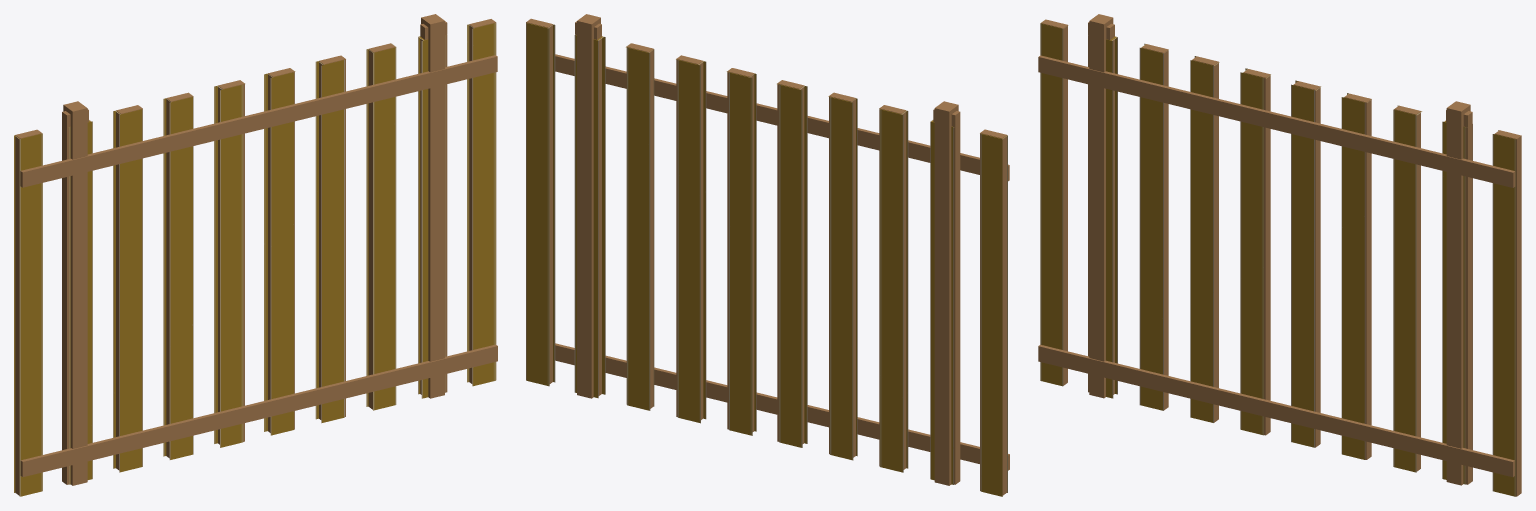
The model's file is E_Alpha Fence.fbx.
3 views of the same model, side by side, from view 1: azimuth 30°, elevation 25°; view 2: azimuth 150°, elevation 25°; view 3: azimuth 330°, elevation 25° (orthographic).
Visible parts, largest first — view 1: lp_fence_barrier, hp_e_fence_barrier; view 2: lp_fence_barrier, hp_e_fence_barrier; view 3: lp_fence_barrier, hp_e_fence_barrier.
Part boxes in pixels (left/top/right/bottom): lp_fence_barrier: left=14, top=14, right=495, bottom=496; hp_e_fence_barrier: left=15, top=19, right=497, bottom=495; lp_fence_barrier: left=526, top=14, right=1007, bottom=496; hp_e_fence_barrier: left=526, top=18, right=1009, bottom=495; lp_fence_barrier: left=1040, top=14, right=1515, bottom=496; hp_e_fence_barrier: left=1038, top=19, right=1521, bottom=496.
Size of the model in its own units: 153 by 115 by 5.56.
